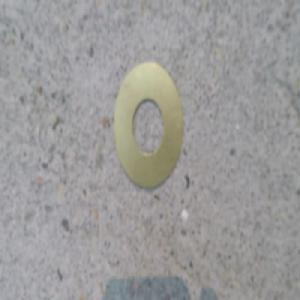Washer: (115, 74, 184, 196)
